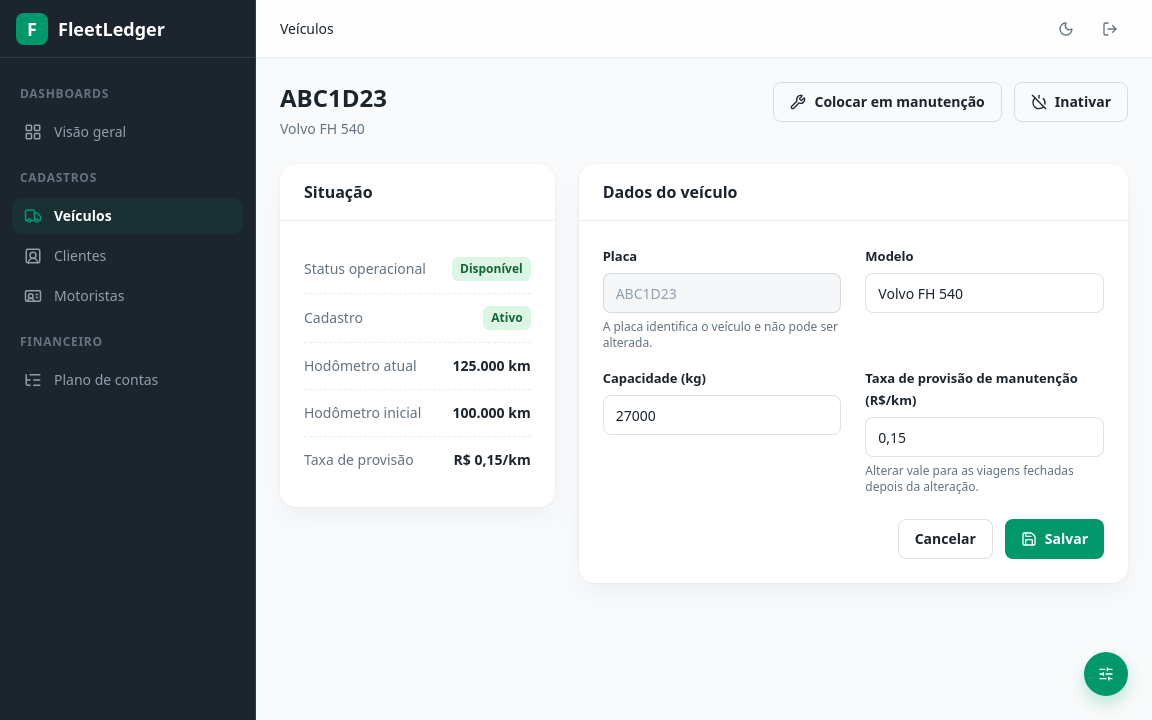
it: VehicleDetailPage › asks for confirmation before deactivating
This screenshot has width=1152, height=720.
Click the button "Inativar".
click(1071, 102)  # box [1014,82,1128,122]
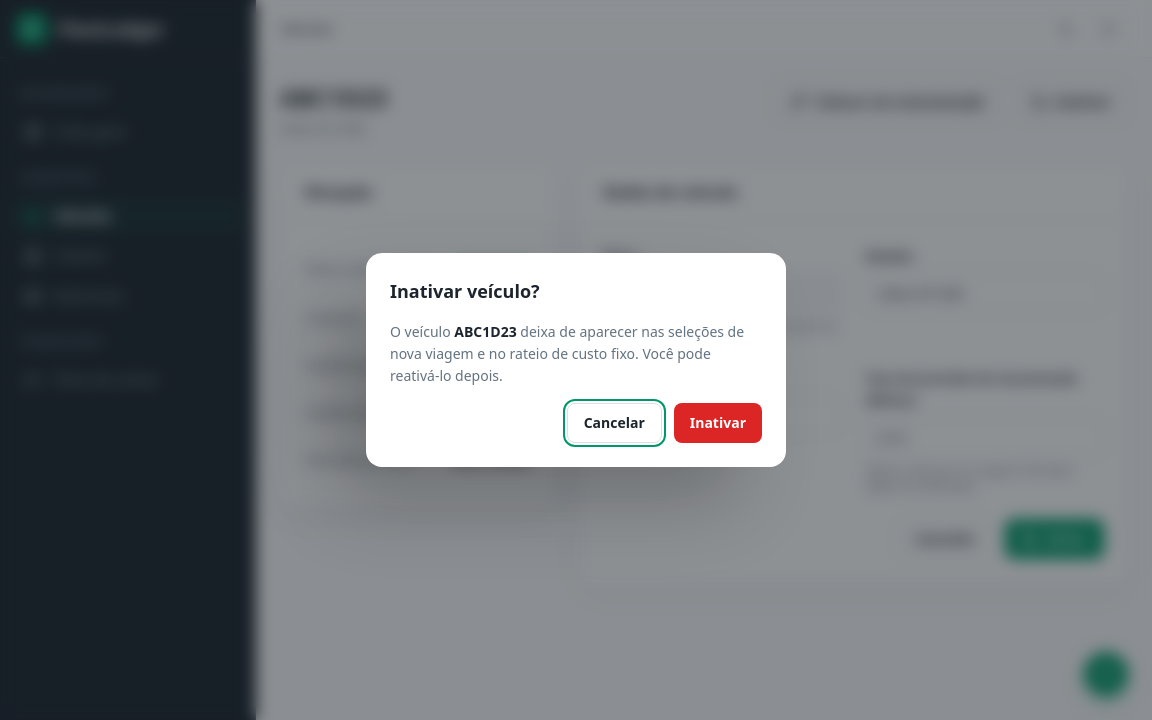
Click the button "Inativar" below "Inativar veículo?".
click(718, 423)  # box [674,403,762,443]
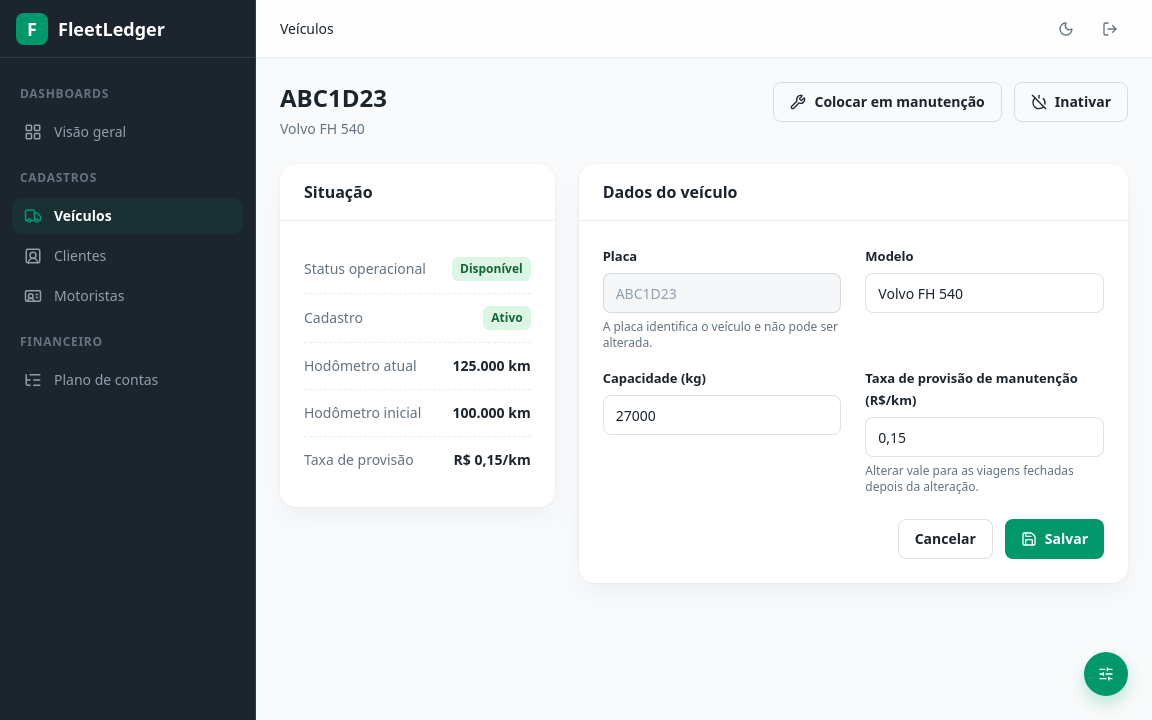
Expected: the dialog is gone
